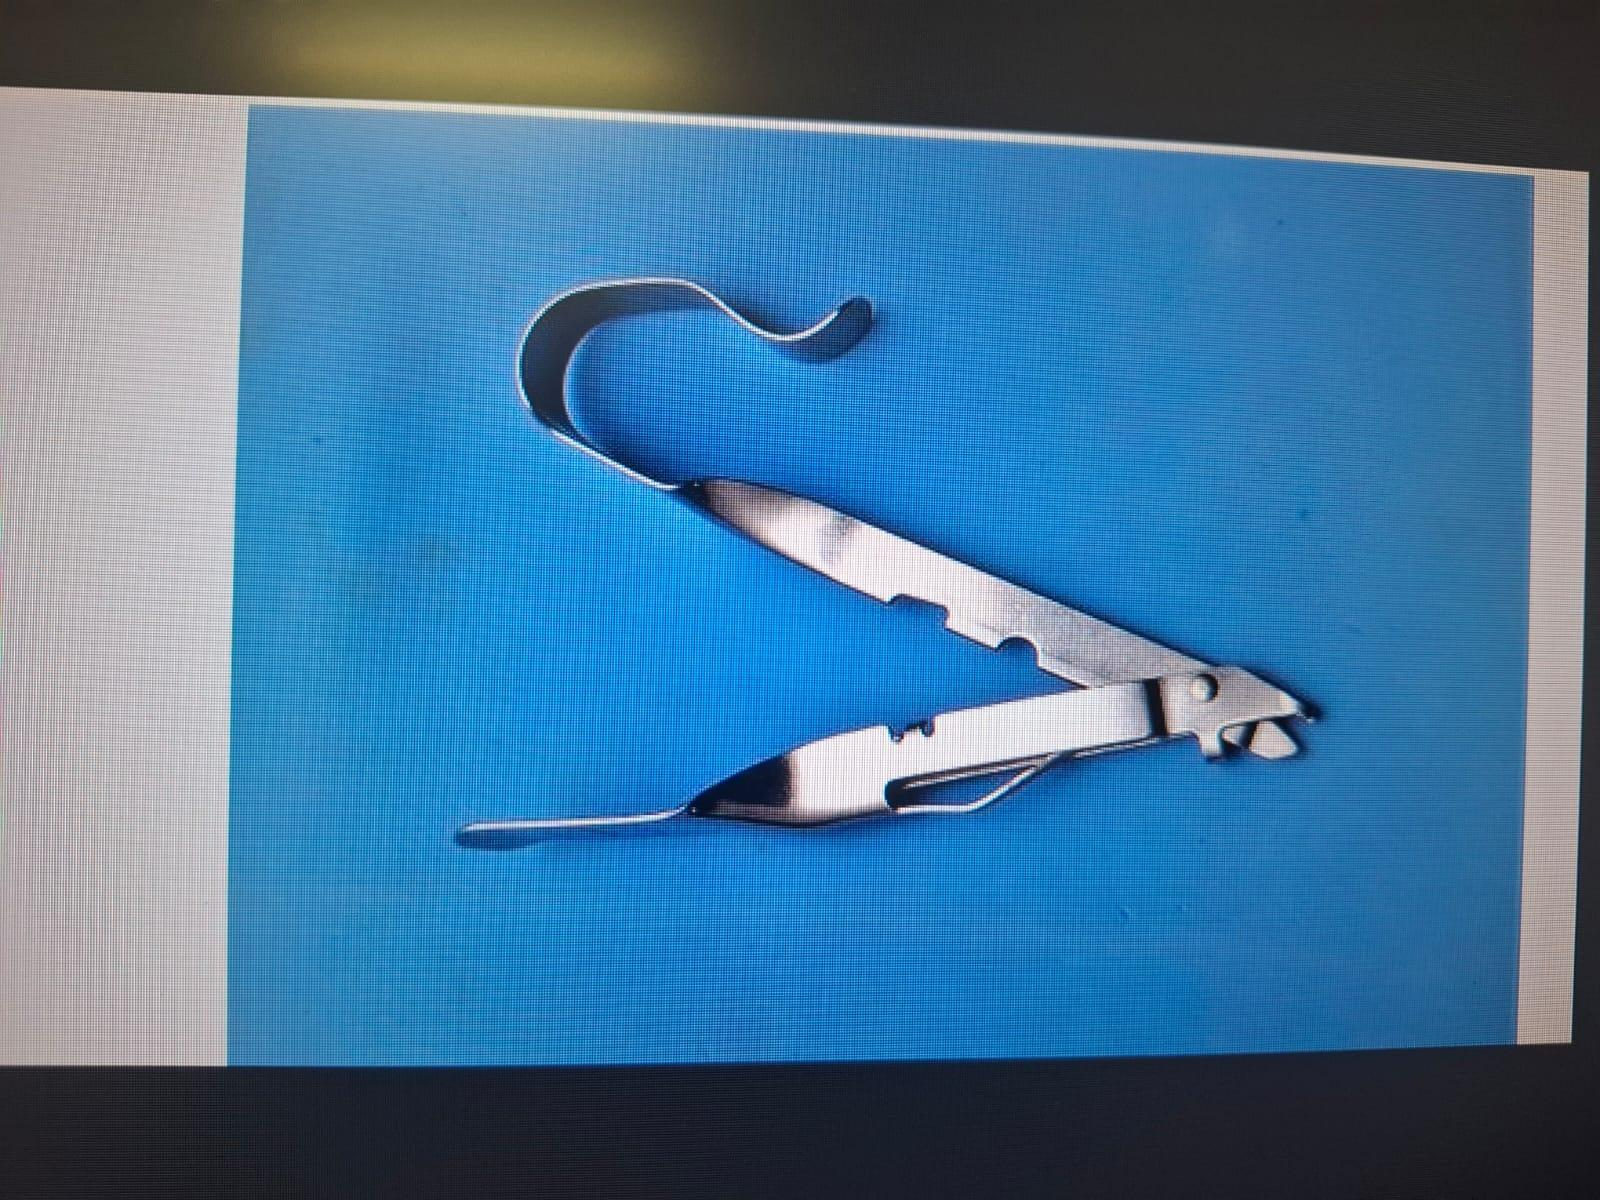Stapler Remover: (422, 254, 1352, 902)
